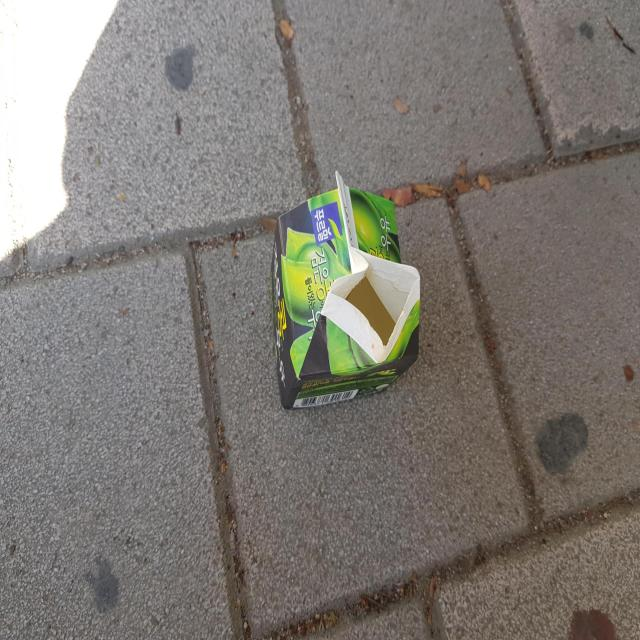paperpack: (271, 169, 421, 409)
